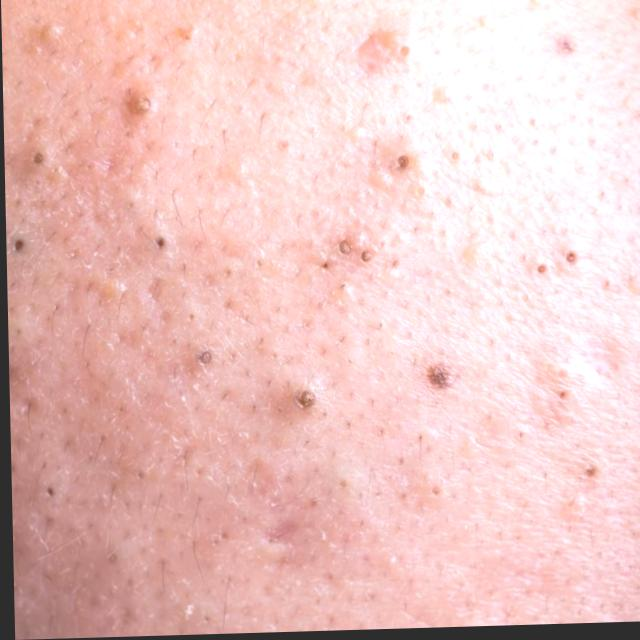dark spot: (421, 360, 464, 405), (278, 380, 319, 425), (527, 257, 550, 291), (389, 152, 412, 183), (329, 232, 354, 260), (188, 345, 212, 374), (4, 235, 30, 259), (558, 248, 578, 275), (143, 234, 167, 255), (356, 250, 378, 271)
